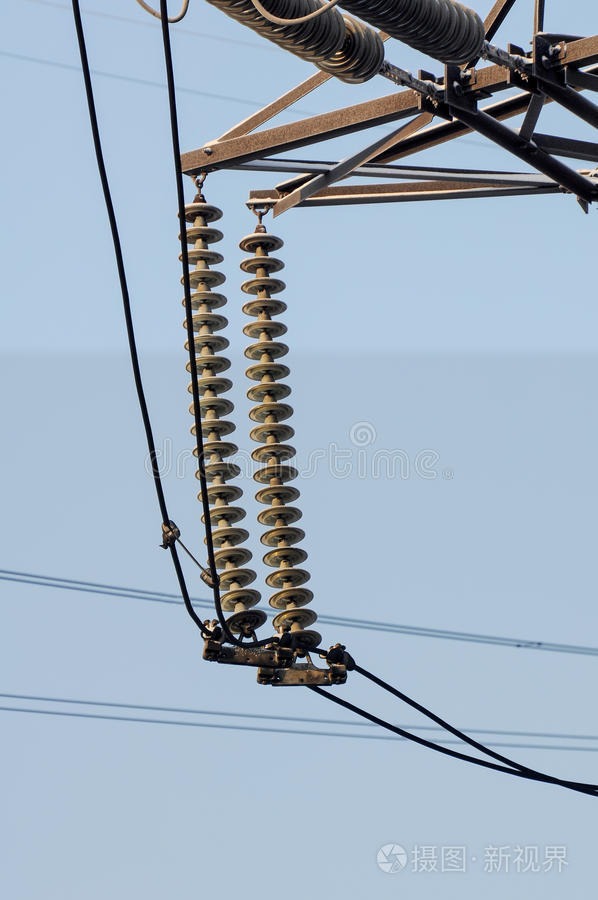insulator: (175, 196, 262, 623), (236, 224, 322, 654), (193, 1, 379, 88), (330, 1, 491, 63)
